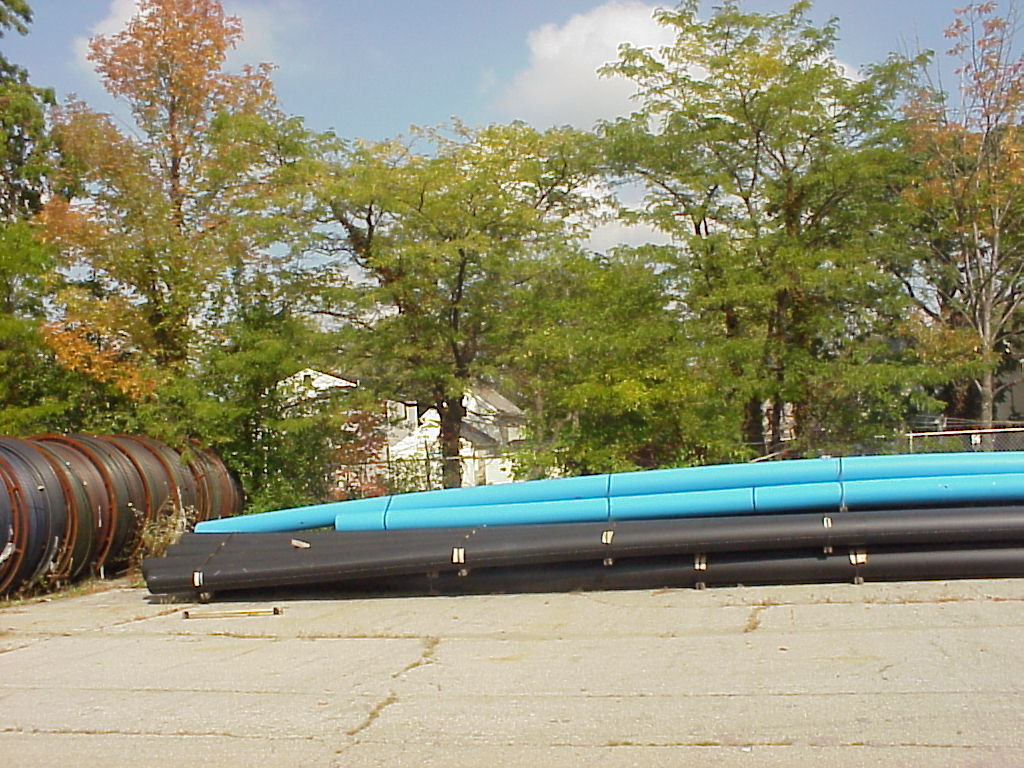Tree: (222, 115, 684, 489), (577, 40, 974, 428), (28, 0, 336, 487), (897, 0, 1022, 446)
